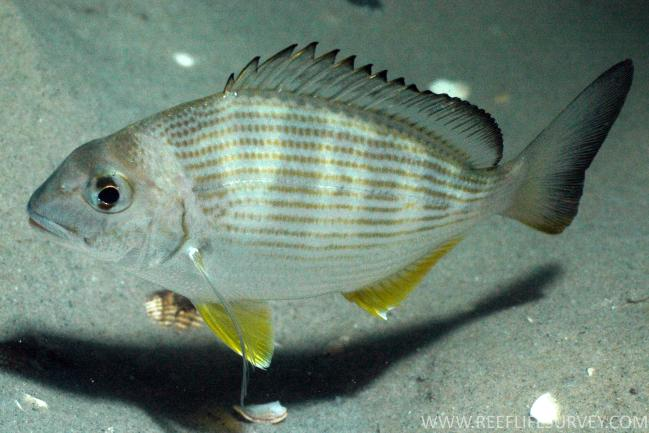fish: (26, 40, 636, 371)
